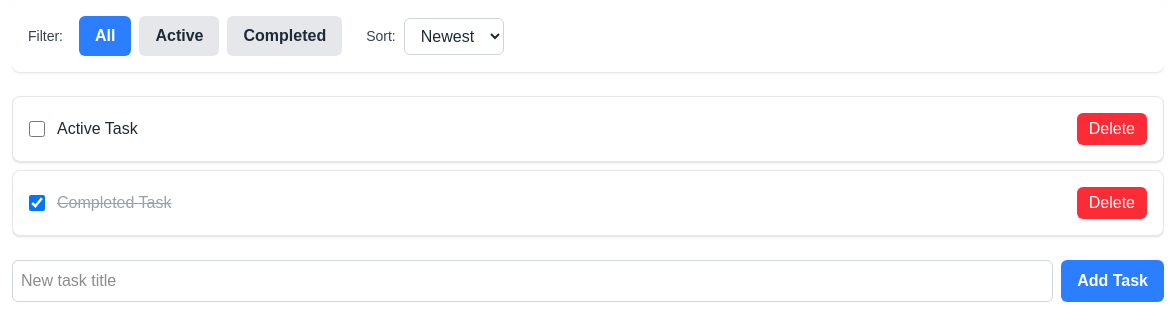
TaskList › filters tasks by active/completed/all
Check: the text "Active Task" is shown, box [57, 120, 138, 137]
Check: the text "Completed Task" is shown, box [57, 194, 171, 211]
Filter: Active
Click the button "Active": (180, 36) [140, 16, 220, 56]
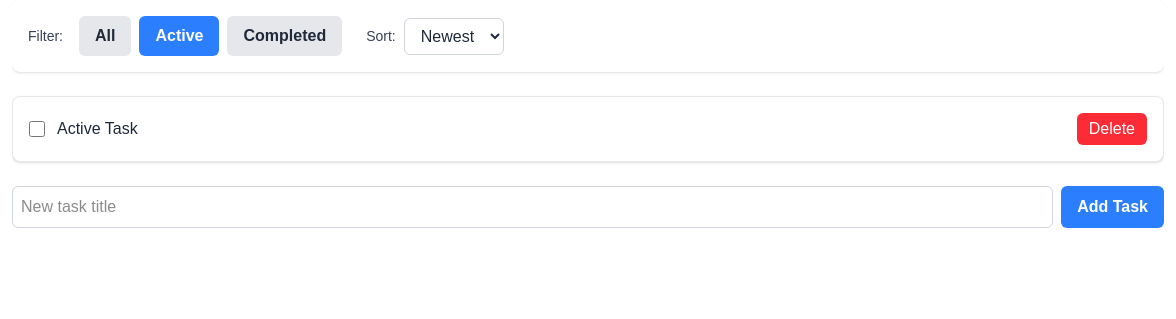
Check: the text "Active Task" is shown, box [57, 120, 138, 137]
Check: the text "Completed Task" is gone
Filter: Completed
Click the button "Completed": (285, 36) [228, 16, 342, 56]
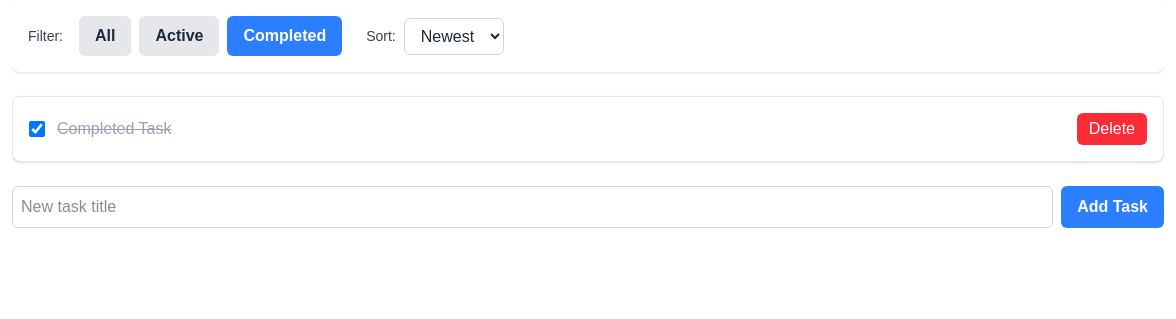
Check: the text "Completed Task" is shown, box [57, 120, 171, 137]
Check: the text "Active Task" is gone
Filter: All
Click the button "All": (105, 36) [79, 16, 132, 56]
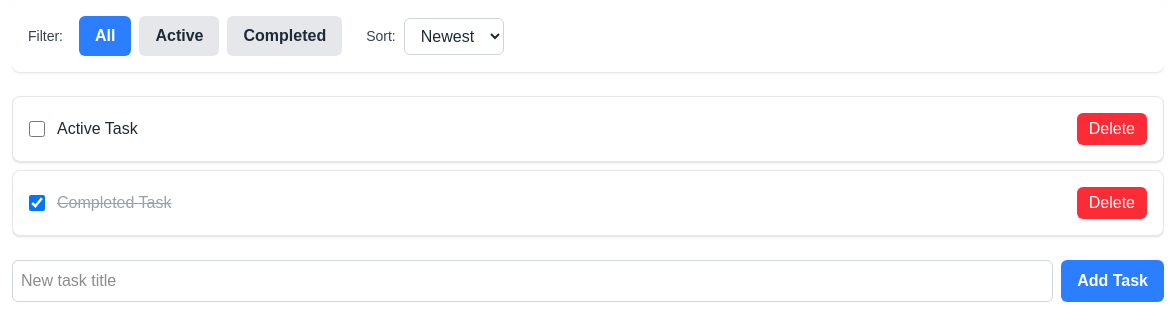
Check: the text "Completed Task" is shown, box [57, 194, 171, 211]
Check: the text "Active Task" is shown, box [57, 120, 138, 137]
